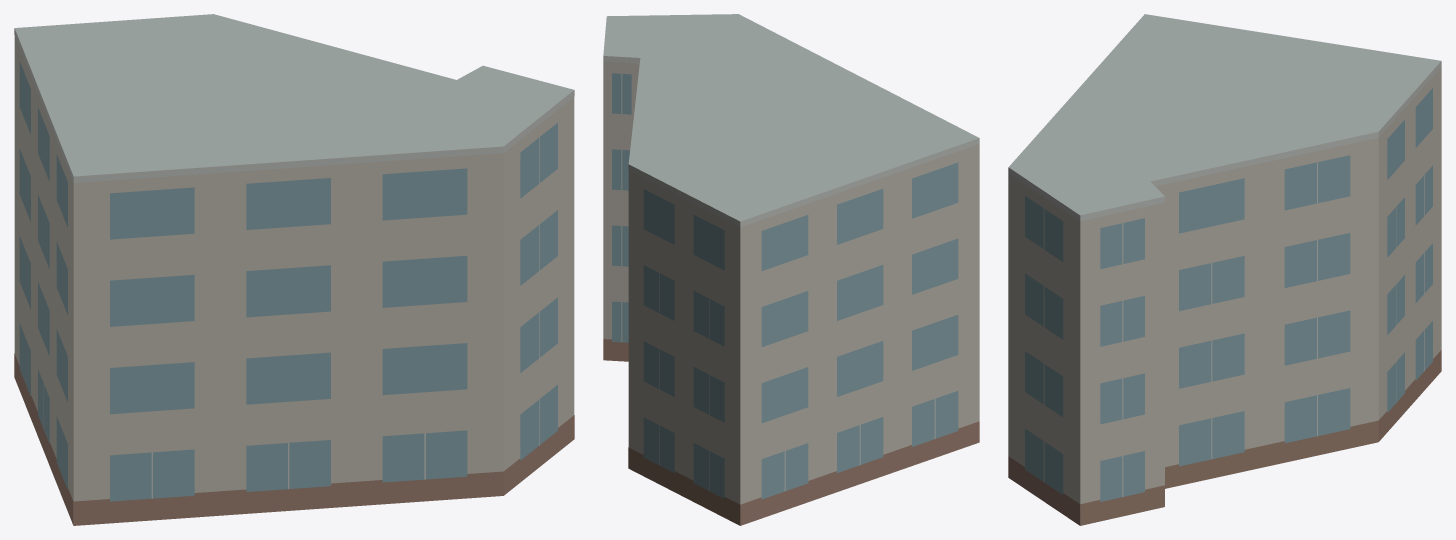
Rendered from survey-upis-33030052.glb.
3 renders of one model, left to right at view 1: azimuth 30°, elevation 25°; view 2: azimuth 150°, elevation 25°; view 3: azimuth 270°, elevation 25°, orthographic. The views are drawn at different scales.
Parts seen in each view (by area): view 1: survey-upis-33030052.tmp; view 2: survey-upis-33030052.tmp; view 3: survey-upis-33030052.tmp.
Boxes of the visible parts, x1,y1,x2,y2 form: survey-upis-33030052.tmp: [14, 14, 574, 525]; survey-upis-33030052.tmp: [603, 14, 979, 525]; survey-upis-33030052.tmp: [1008, 14, 1441, 525].
Size of the model in its own units: 17.82 by 12.8 by 16.19.
